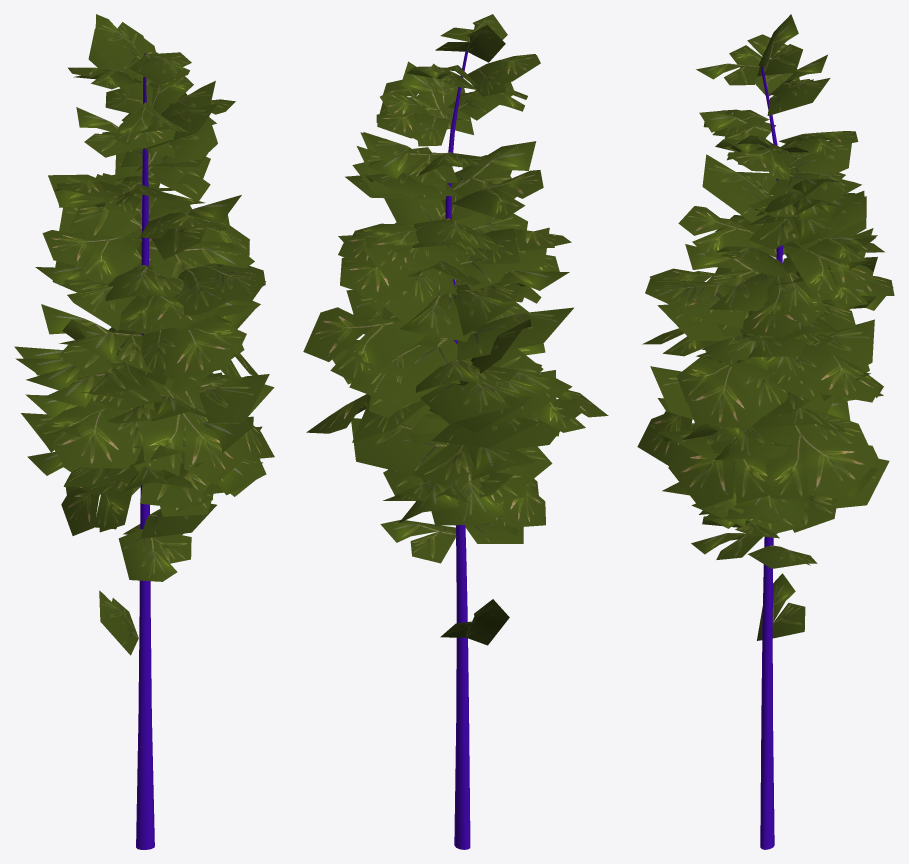
Rendered from Bamboo_C.FBX.
3 views of the same model, side by side, from view 1: azimuth 30°, elevation 25°; view 2: azimuth 150°, elevation 25°; view 3: azimuth 270°, elevation 25° (orthographic). The views are drawn at different scales.
Visible parts, largest first — view 1: Geometry_Bamboo_C_LOD00; view 2: Geometry_Bamboo_C_LOD00; view 3: Geometry_Bamboo_C_LOD00.
Boxes of the visible parts, left/top/right/bottom form: Geometry_Bamboo_C_LOD00: left=14, top=14, right=274, bottom=849; Geometry_Bamboo_C_LOD00: left=303, top=14, right=608, bottom=849; Geometry_Bamboo_C_LOD00: left=637, top=14, right=894, bottom=849.
Size of what is drawn, in the model's own units: 101 by 352 by 101.
